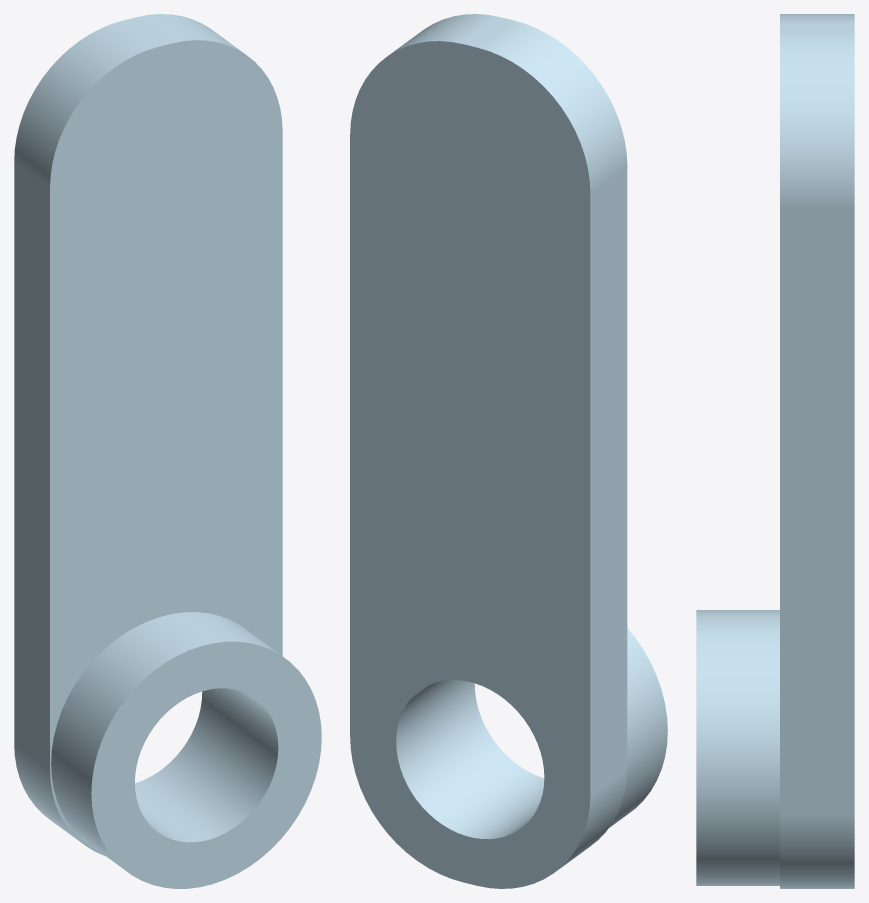
3 views of the same model, side by side, from view 1: azimuth 30°, elevation 25°; view 2: azimuth 150°, elevation 25°; view 3: azimuth 270°, elevation 25° (orthographic). The views are drawn at different scales.
Parts seen in each view (by area): view 1: mesh1572, mesh1563, mesh1575, mesh1564, mesh1565, mesh1573, mesh1568, mesh1570; view 2: mesh1571, mesh1575, mesh1564, mesh1573, mesh1565, mesh1568, mesh1570; view 3: mesh1569, mesh1565, mesh1570, mesh1567, mesh1573, mesh1574.
Boxes of the visible parts, bbox=[...] form: mesh1572: bbox=[50, 40, 282, 855]; mesh1563: bbox=[91, 641, 321, 888]; mesh1575: bbox=[14, 162, 49, 769]; mesh1564: bbox=[135, 688, 278, 842]; mesh1565: bbox=[51, 612, 280, 868]; mesh1573: bbox=[14, 20, 159, 187]; mesh1568: bbox=[14, 744, 82, 843]; mesh1570: bbox=[137, 14, 244, 53]; mesh1571: bbox=[350, 41, 590, 888]; mesh1575: bbox=[590, 167, 627, 794]; mesh1564: bbox=[396, 680, 544, 839]; mesh1573: bbox=[477, 20, 627, 193]; mesh1565: bbox=[609, 628, 667, 827]; mesh1568: bbox=[556, 768, 627, 871]; mesh1570: bbox=[389, 14, 499, 54]; mesh1569: bbox=[780, 208, 854, 812]; mesh1565: bbox=[696, 610, 779, 885]; mesh1570: bbox=[780, 33, 854, 207]; mesh1567: bbox=[780, 813, 854, 888]; mesh1573: bbox=[780, 14, 854, 26]; mesh1574: bbox=[780, 26, 854, 32].
Bounding box in the file's own units: 0.006 × 0.02 × 0.0034.
